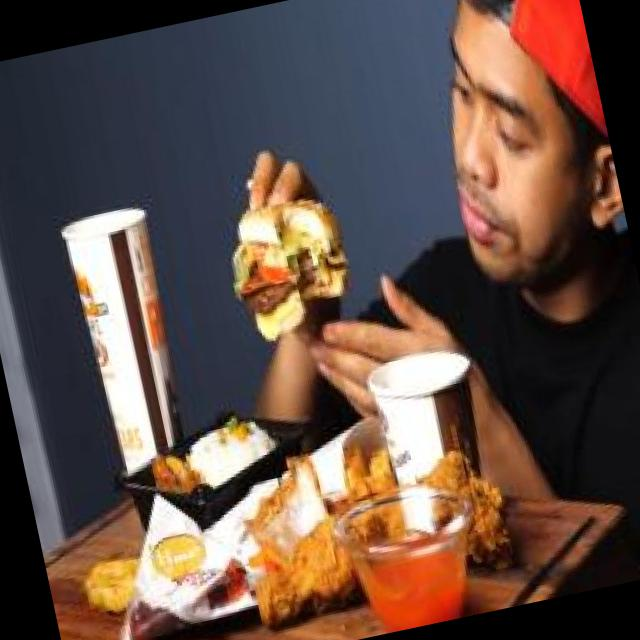AW cola: (50, 190, 208, 478)
black pepper rice bowl: (131, 392, 323, 534)
chicken waffle: (310, 391, 412, 499)
crispy corn: (356, 332, 508, 508)
fried chicken: (214, 401, 542, 628)
mozza burger: (212, 172, 364, 358)
perkedel: (75, 533, 162, 622)
